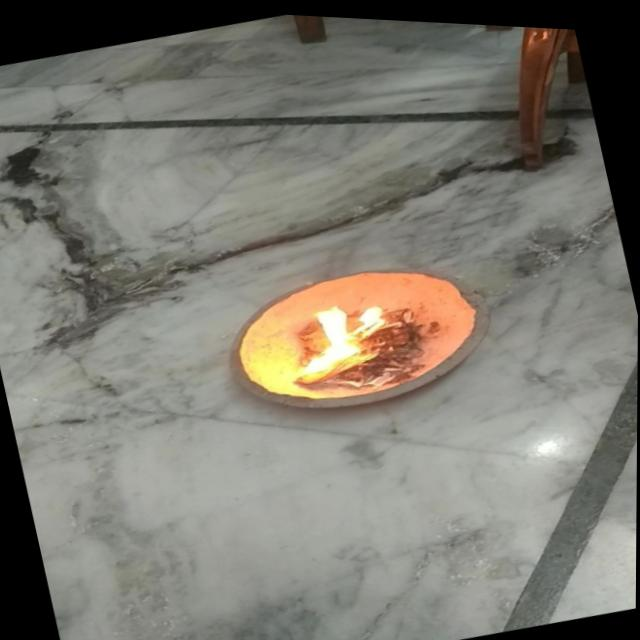fire: (282, 283, 408, 391)
